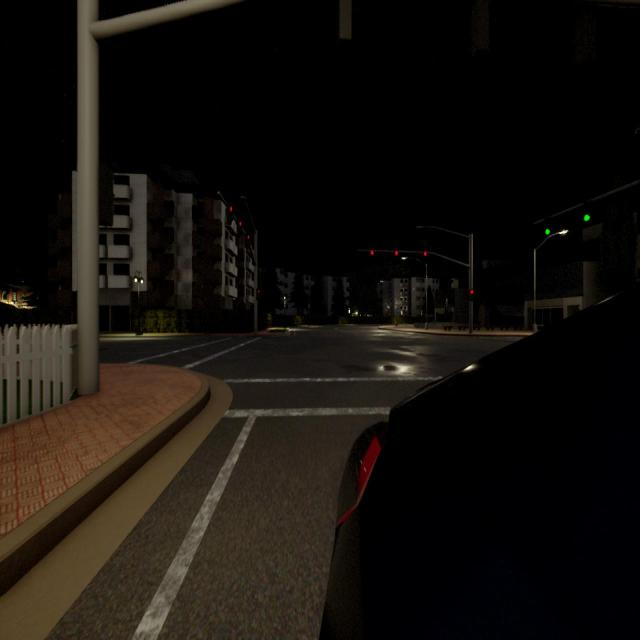Vehicle: (321, 286, 640, 640)
traffic_light: (339, 0, 352, 38), (584, 201, 590, 222), (545, 218, 550, 236), (469, 289, 474, 301), (423, 252, 428, 264), (394, 251, 399, 261), (256, 288, 260, 300), (370, 250, 374, 260), (229, 206, 233, 212), (239, 221, 242, 227), (247, 234, 250, 240)
